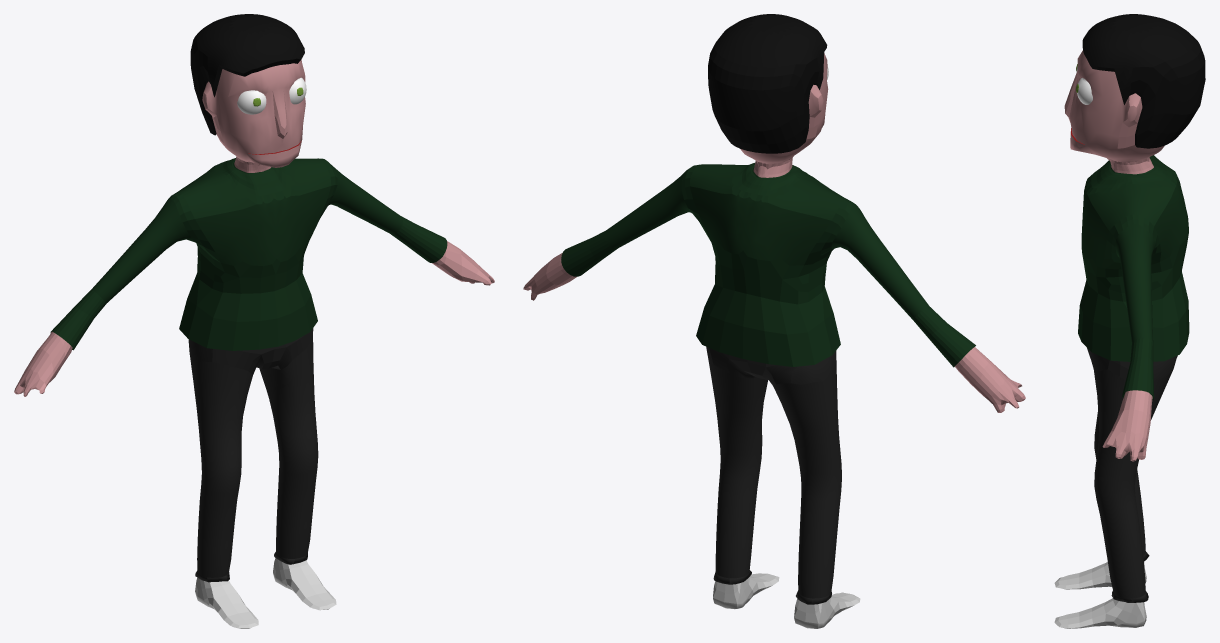
The model's file is NPC2.FBX.
The picture shows the model from 3 angles, left to right: view 1: azimuth 30°, elevation 25°; view 2: azimuth 150°, elevation 25°; view 3: azimuth 270°, elevation 25°; orthographic projection. The views are drawn at different scales.
Parts seen in each view (by area): view 1: Body; view 2: Body; view 3: Body.
Part boxes in pixels (x1,y1,x2,y2): Body: [14, 14, 494, 628]; Body: [523, 14, 1025, 628]; Body: [1054, 14, 1205, 628].
Bounding box in the file's own units: 159 × 183 × 42.92.
